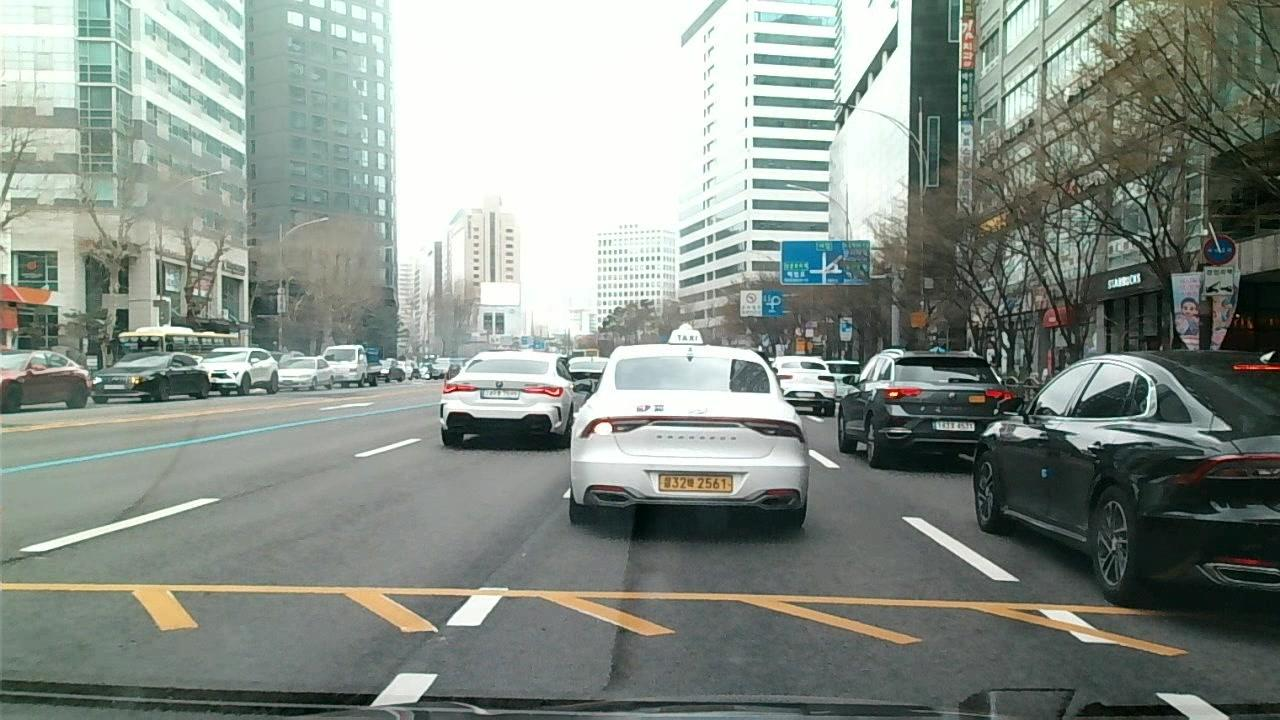banner: (607, 522, 638, 688)
